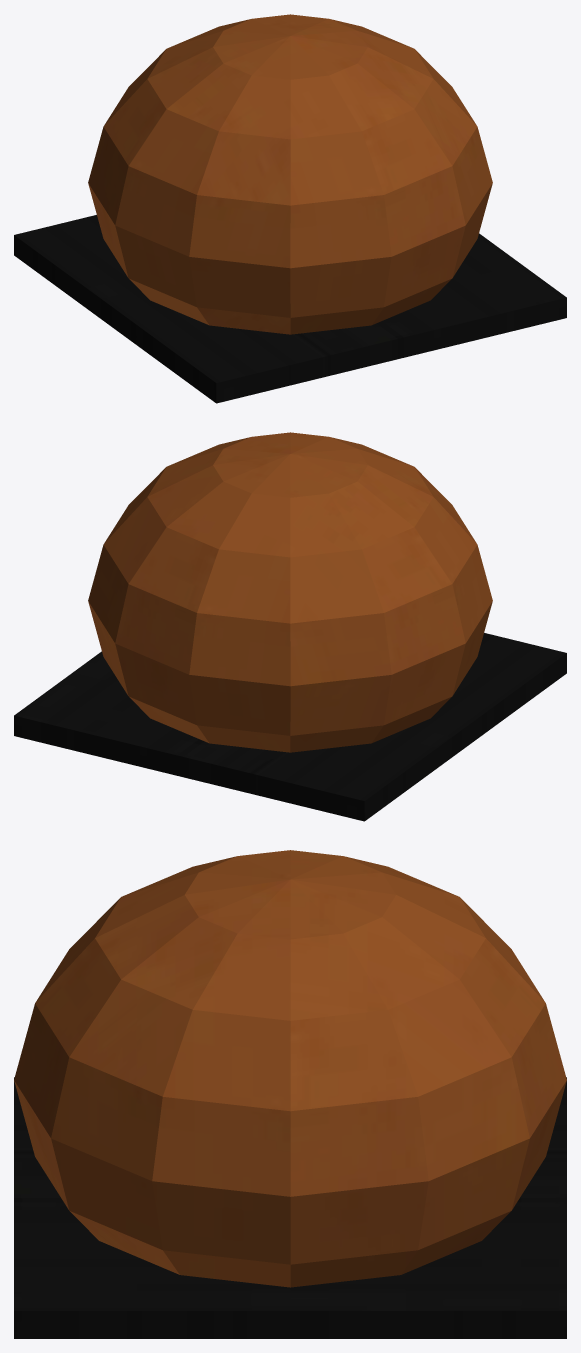
The model's file is tewak_float_01.glb.
The picture shows the model from 3 angles, top to bottom: view 1: azimuth 30°, elevation 25°; view 2: azimuth 150°, elevation 25°; view 3: azimuth 270°, elevation 25°; orthographic projection. The views are drawn at different scales.
Visible parts, largest first — view 1: tewak_float_01; view 2: tewak_float_01; view 3: tewak_float_01.
Part boxes in pixels (<box>): tewak_float_01: <box>14,14,566,403</box>; tewak_float_01: <box>14,432,566,821</box>; tewak_float_01: <box>14,850,566,1338</box>.
Bounding box in the file's own units: 0.9 × 0.72 × 0.9.
Materials: 2 (2 with a texture image).
